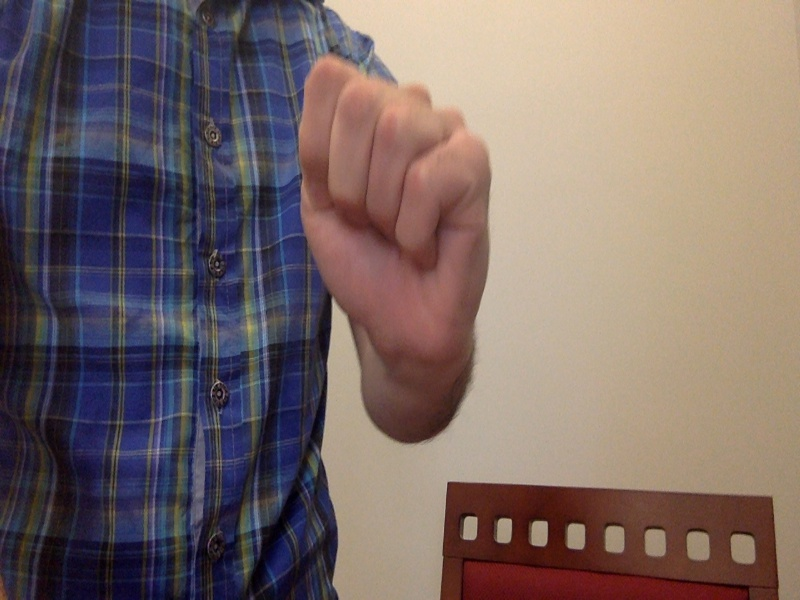0-hand: (292, 56, 489, 359)
